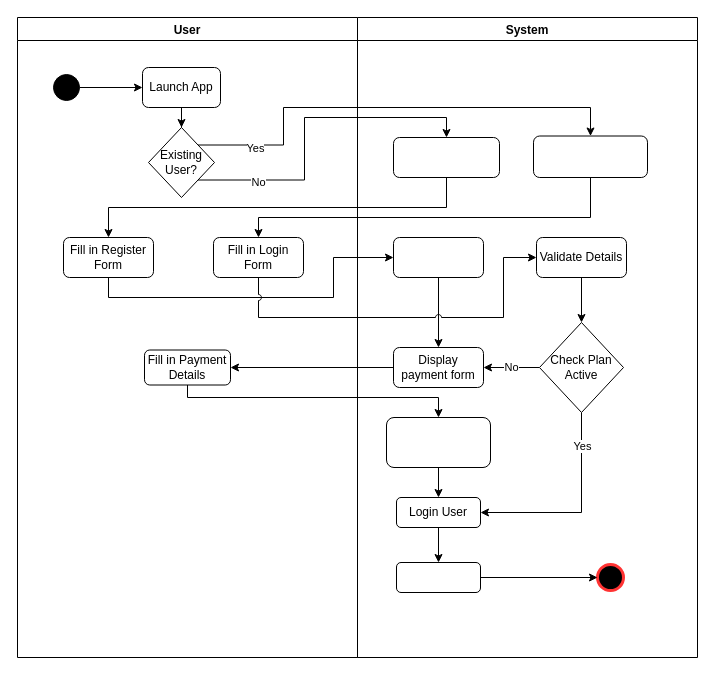
The diagram is 715 pixels wide and 675 high, and some of its shapes have lost their labels. The centre of each missing label's shape, as x and y in pixels:
Continue to main screen: (x=438, y=577)
Display Login: (x=590, y=156)
Display Registration: (x=446, y=157)
Save Details: (x=438, y=257)
Verify payment and activate account: (x=438, y=442)
